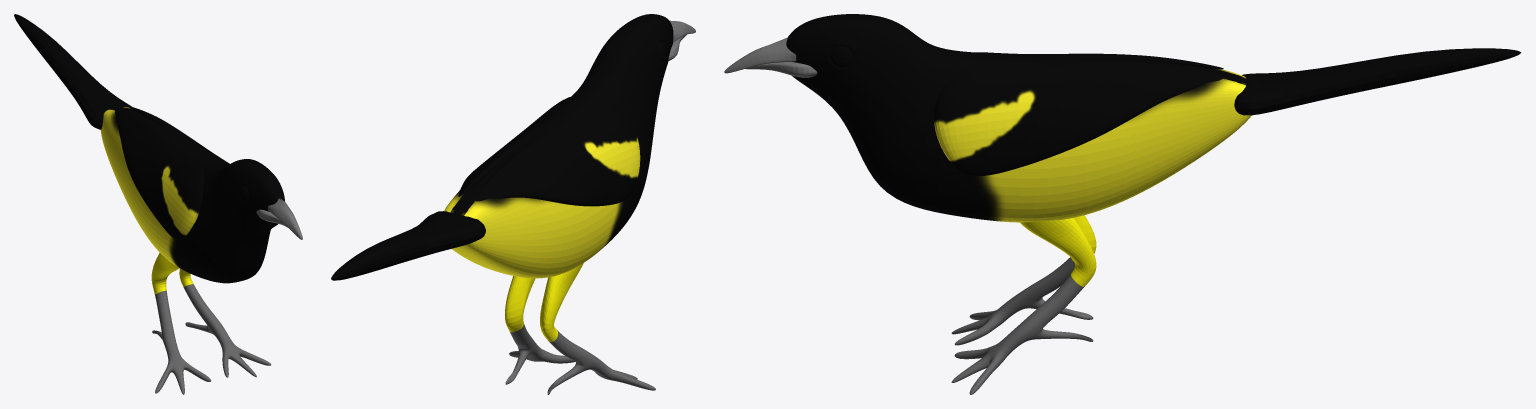
The model's file is Cacique amarillo.fbx.
3 views of the same model, side by side, from view 1: azimuth 30°, elevation 25°; view 2: azimuth 150°, elevation 25°; view 3: azimuth 270°, elevation 25° (orthographic). The views are drawn at different scales.
Parts seen in each view (by area): view 1: Cube, Cube.016, Cube.017, Cube.002, Cube.019; view 2: Cube, Cube.016, Cube.017, Cube.002; view 3: Cube, Cube.016, Cube.017, Cube.002, Cube.019.
Part boxes in pixels (x1,y1,x2,y2): Cube: (100, 107, 284, 283); Cube.016: (115, 106, 229, 240); Cube.017: (151, 253, 271, 394); Cube.002: (14, 14, 131, 129); Cube.019: (268, 198, 302, 239); Cube: (444, 14, 673, 278); Cube.016: (458, 97, 640, 206); Cube.017: (505, 263, 655, 394); Cube.002: (331, 211, 485, 280); Cube: (786, 14, 1251, 222); Cube.016: (934, 52, 1223, 176); Cube.017: (951, 215, 1096, 394); Cube.002: (1234, 48, 1521, 115); Cube.019: (724, 38, 796, 73).
Bounding box in the file's own units: 105 × 213 × 450.
Materials: 7 (2 with a texture image).
